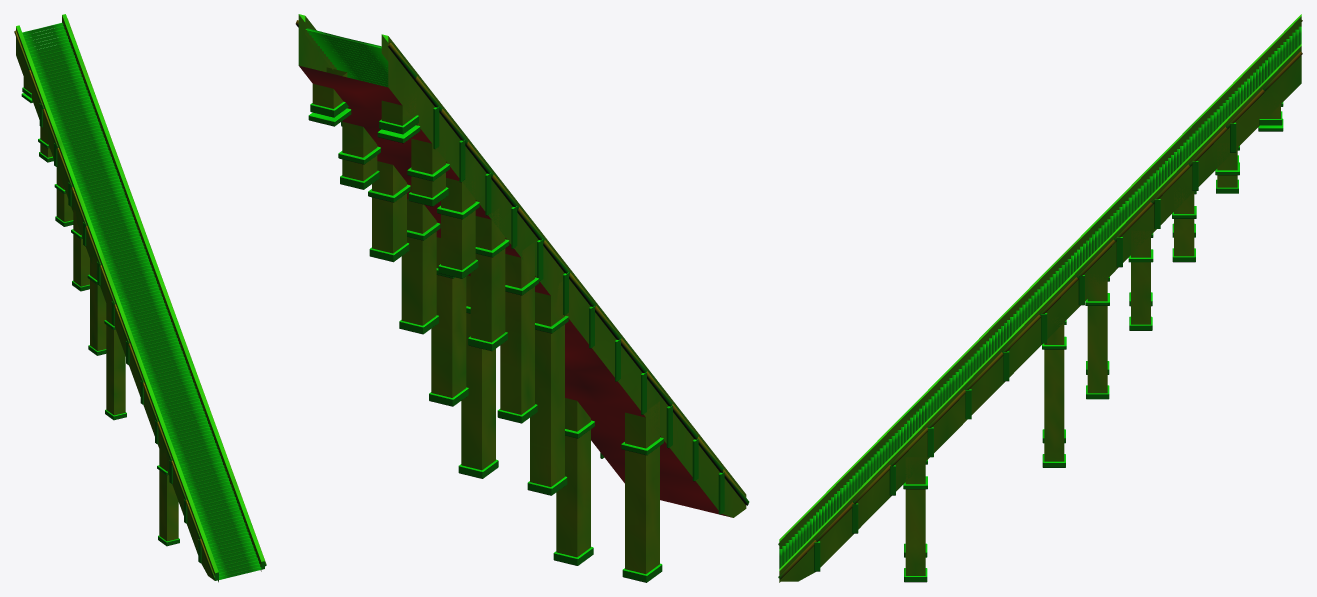
Rendered from flying_stair.glb.
3 renders of one model, left to right at view 1: azimuth 30°, elevation 25°; view 2: azimuth 150°, elevation 25°; view 3: azimuth 270°, elevation 25°, orthographic. The views are drawn at different scales.
Parts seen in each view (by area): view 1: flying_stair; view 2: flying_stair; view 3: flying_stair.
Boxes of the visible parts, box(x1,y1,x2,y2) form: flying_stair: box(14, 14, 266, 582); flying_stair: box(295, 14, 749, 582); flying_stair: box(778, 14, 1302, 582).
Size of what is drawn, in the model's own units: 6.36 by 47.22 by 41.62.
